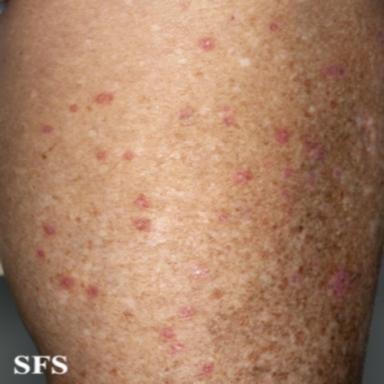Porokeratosis: (327, 266, 353, 302), (322, 65, 345, 77), (275, 128, 291, 144), (134, 193, 150, 209), (235, 171, 253, 185), (133, 217, 150, 231), (198, 37, 215, 51), (96, 92, 114, 104), (178, 307, 195, 319), (59, 276, 74, 289), (202, 361, 215, 376), (161, 327, 176, 340), (179, 107, 195, 119), (169, 343, 185, 355), (43, 223, 57, 235), (223, 115, 235, 127), (86, 286, 99, 297), (289, 271, 299, 285), (283, 166, 293, 179), (97, 150, 108, 161), (123, 151, 135, 161), (41, 124, 53, 133), (36, 249, 46, 259), (109, 367, 118, 377), (311, 256, 319, 267), (269, 23, 279, 31), (70, 103, 78, 112), (79, 370, 86, 378)
